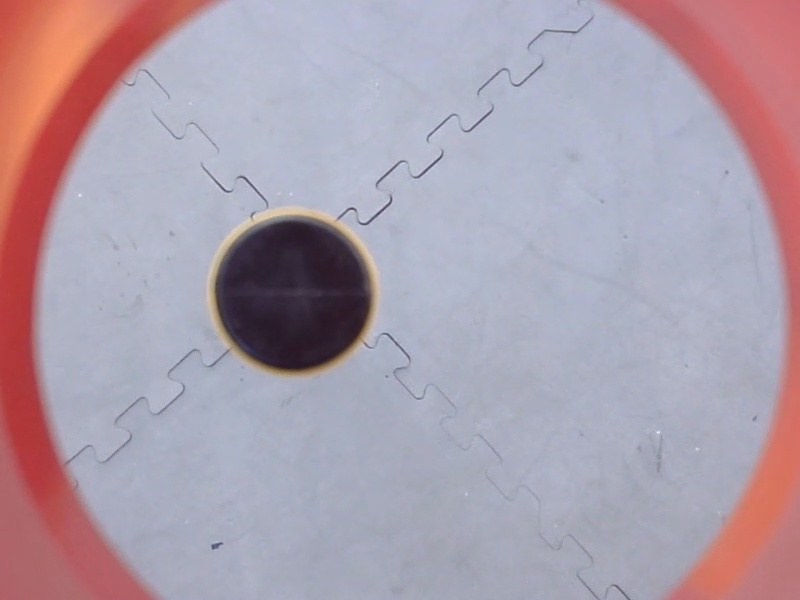tip: (198, 202, 388, 386)
